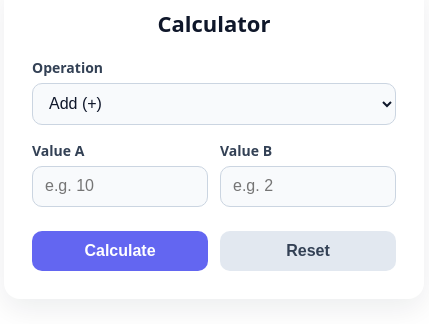
<Calculator /> › clears all fields when Reset is clicked
The image size is (429, 324).
Type "5" into the number field labelled "Value A" at x=120, y=186, box [32,166,208,207]
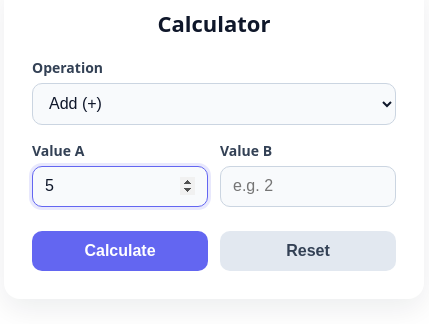
Click the button "Reset" at x=308, y=251, box [220,231,396,271]
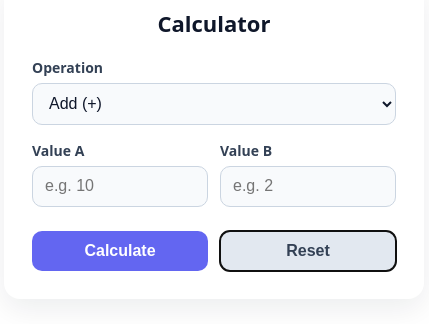
Now the number field labelled "Value A" is empty, box [32,166,208,207]
